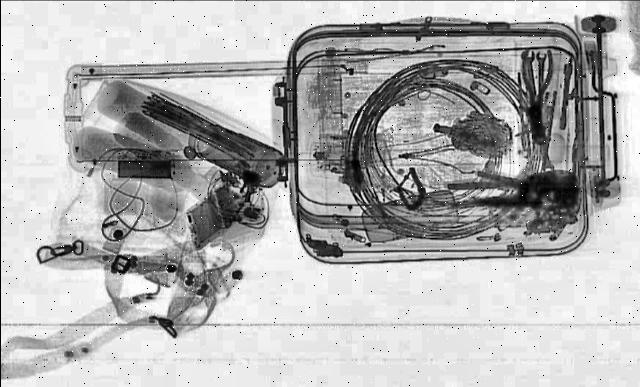Pliers: (518, 49, 552, 121)
Wrench: (518, 50, 534, 92), (534, 52, 546, 78)
